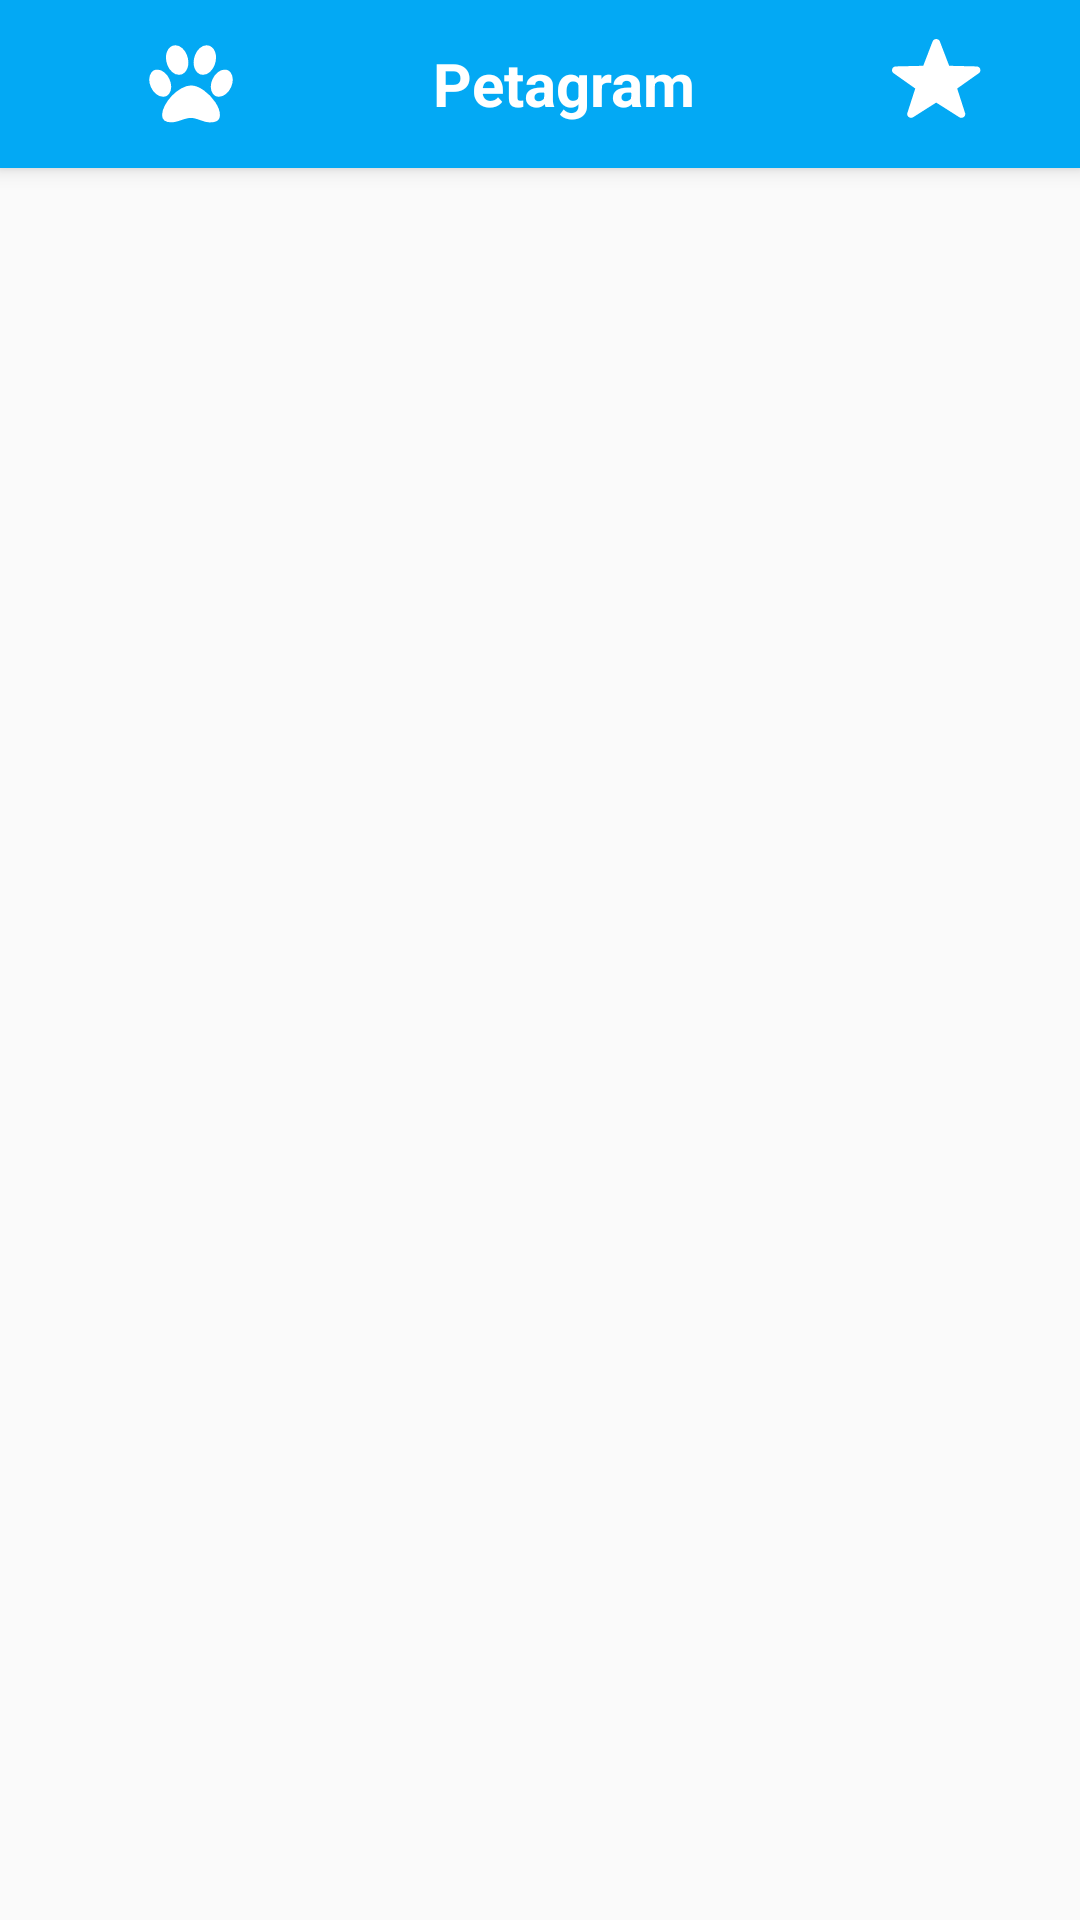

Icon bounding boxes for this 1080x1920 phone screenshot, format [x1, y1, x2, y2]:
huella: [149, 45, 233, 123]
star: [892, 39, 981, 118]
